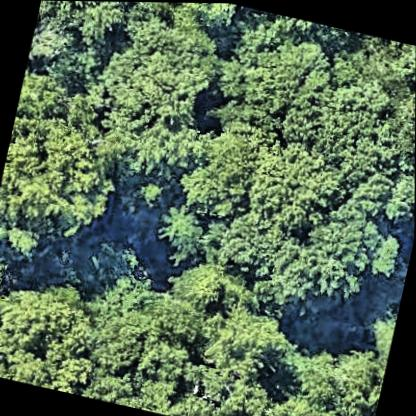tree-top: (91, 25, 217, 191), (99, 1, 231, 139), (0, 103, 119, 243), (211, 3, 331, 128), (292, 187, 404, 311), (0, 269, 95, 393), (200, 215, 321, 307), (243, 136, 347, 241), (172, 109, 270, 219), (281, 67, 382, 158), (75, 276, 163, 378), (277, 336, 382, 416), (194, 301, 291, 387), (31, 0, 132, 60), (173, 368, 286, 416), (336, 29, 410, 90), (44, 38, 107, 108), (167, 249, 235, 313), (383, 44, 416, 133), (155, 200, 206, 255), (383, 141, 415, 227), (361, 303, 399, 375), (171, 2, 246, 35), (368, 228, 408, 285), (0, 237, 14, 335), (133, 178, 169, 212)
